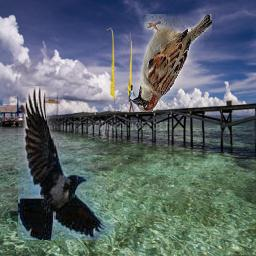Crow: (18, 86, 114, 240)
Sparrow: (132, 14, 213, 112)
